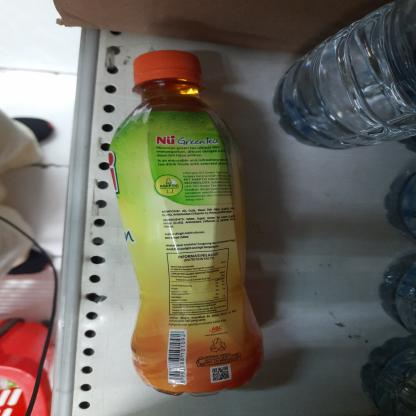bottle: (105, 47, 269, 398)
